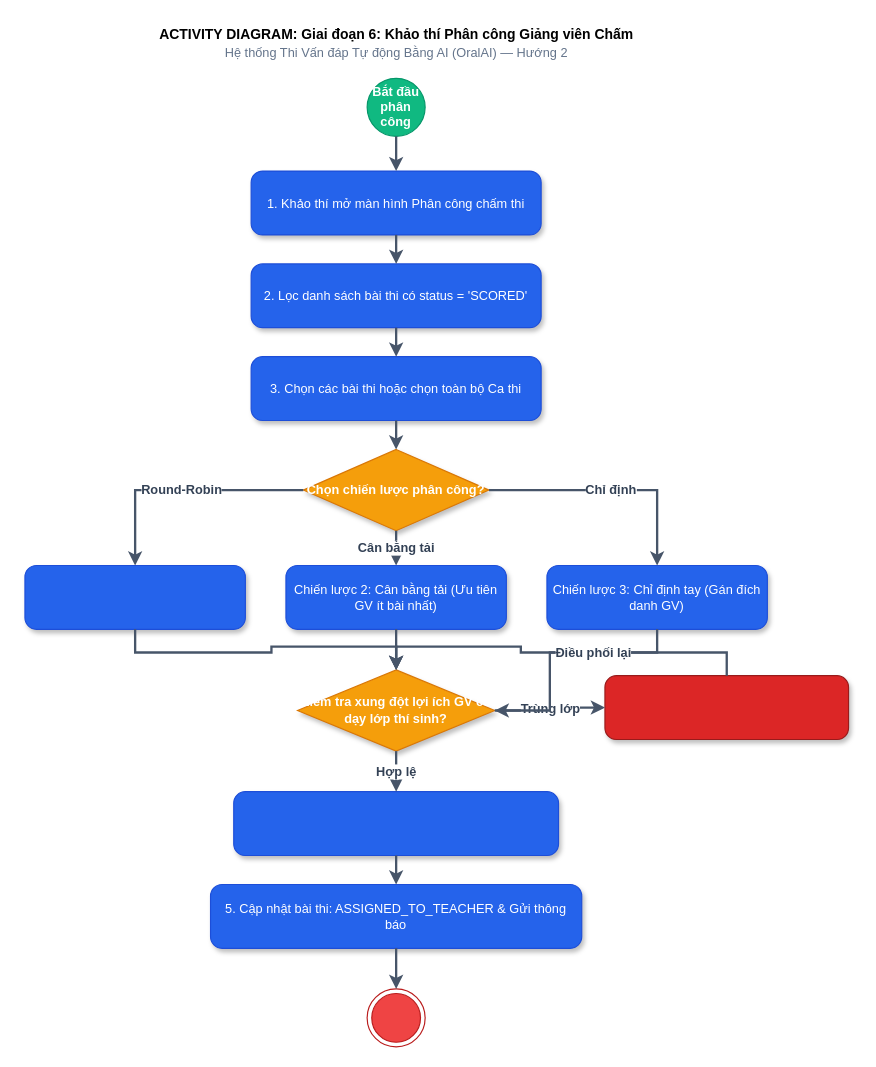
The diagram is 876 pixels wide and 1067 high, and some of its shapes have lost their labels. Here are the shapes that lost their labels. From the top down, the centre of each, then its label:
the point at 135,598: Chiến lược 1: Round-Robin (Chia đều xoay vòng)
the point at 727,709: Chuyển bài thi sang Giảng viên khác (Tránh thiên vị người quen)
the point at 397,825: 4. Tạo bản ghi teacher_assignments trong CSDL
the point at 395,1017: Hoàn thành GĐ 6 GV nhận việc
